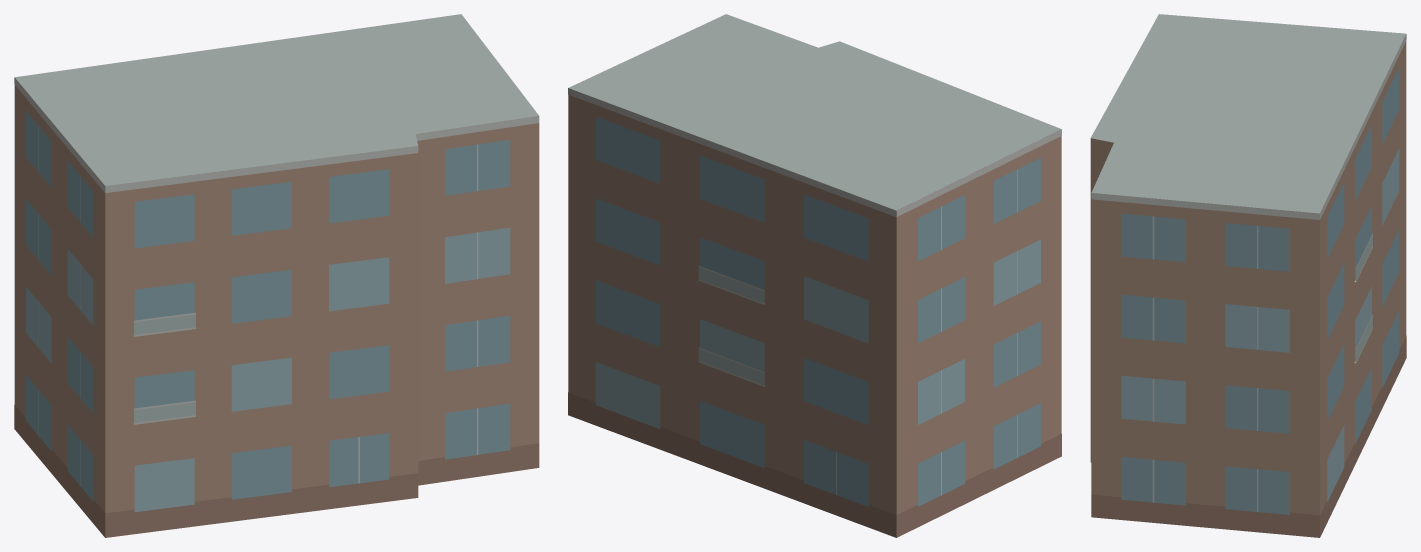
File: survey-upis-32803961.glb
3 renders of one model, left to right at view 1: azimuth 30°, elevation 25°; view 2: azimuth 150°, elevation 25°; view 3: azimuth 270°, elevation 25°, orthographic. The views are drawn at different scales.
Visible parts, largest first — view 1: survey-upis-32803961.tmp; view 2: survey-upis-32803961.tmp; view 3: survey-upis-32803961.tmp.
Part boxes in pixels (box(x1,y1,x2,y2)): survey-upis-32803961.tmp: box(14, 14, 539, 537); survey-upis-32803961.tmp: box(568, 14, 1061, 537); survey-upis-32803961.tmp: box(1090, 14, 1406, 537).
Bounding box in the file's own units: 16.1 × 12.2 × 10.78.
